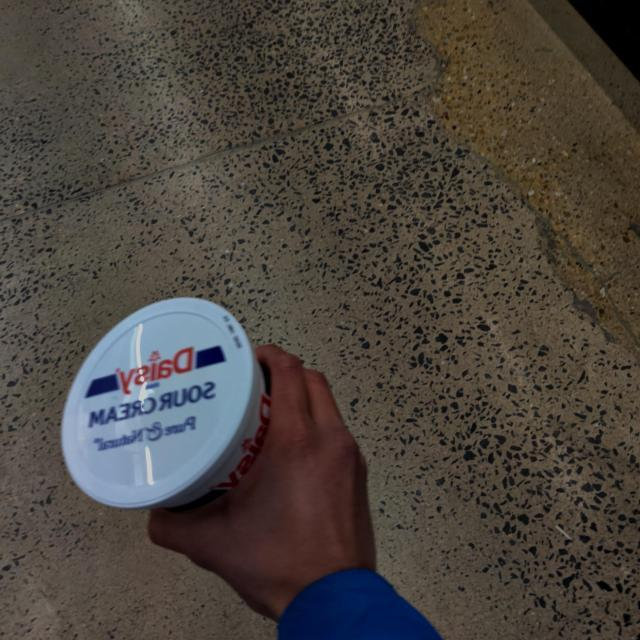Yoghurt: (54, 293, 274, 515)
